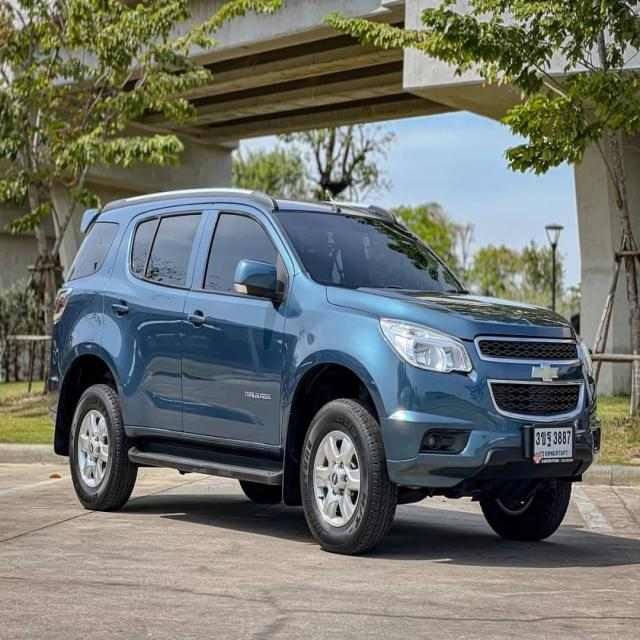license_plate: (524, 425, 576, 466)
